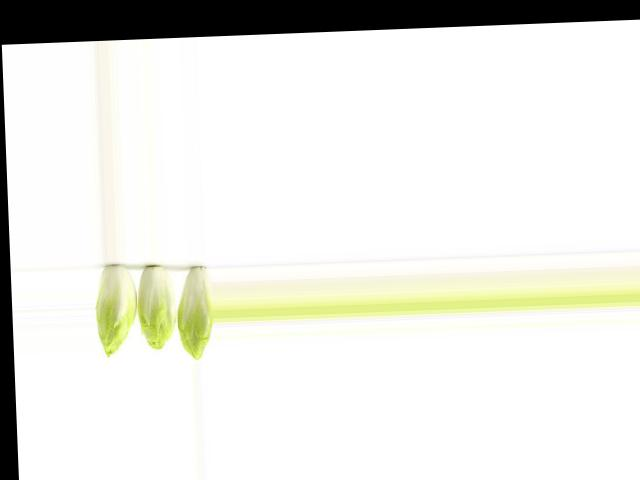lettuce: (93, 260, 137, 358)
